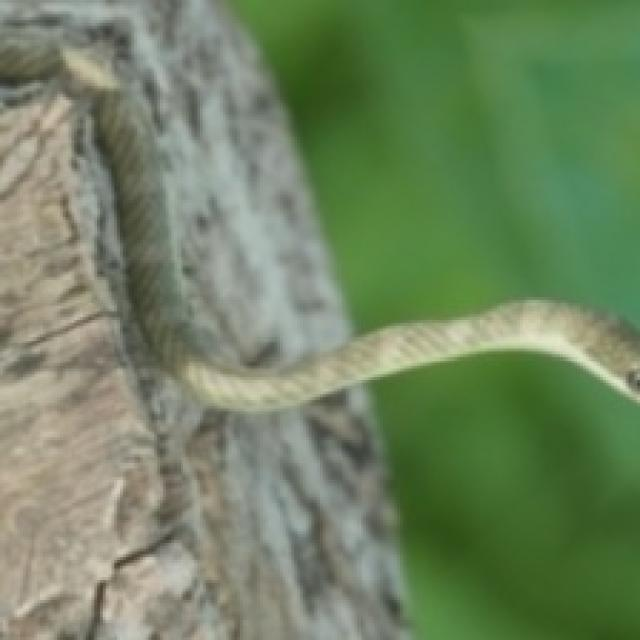paradise tree snake: (229, 0, 637, 329), (371, 354, 637, 637)
